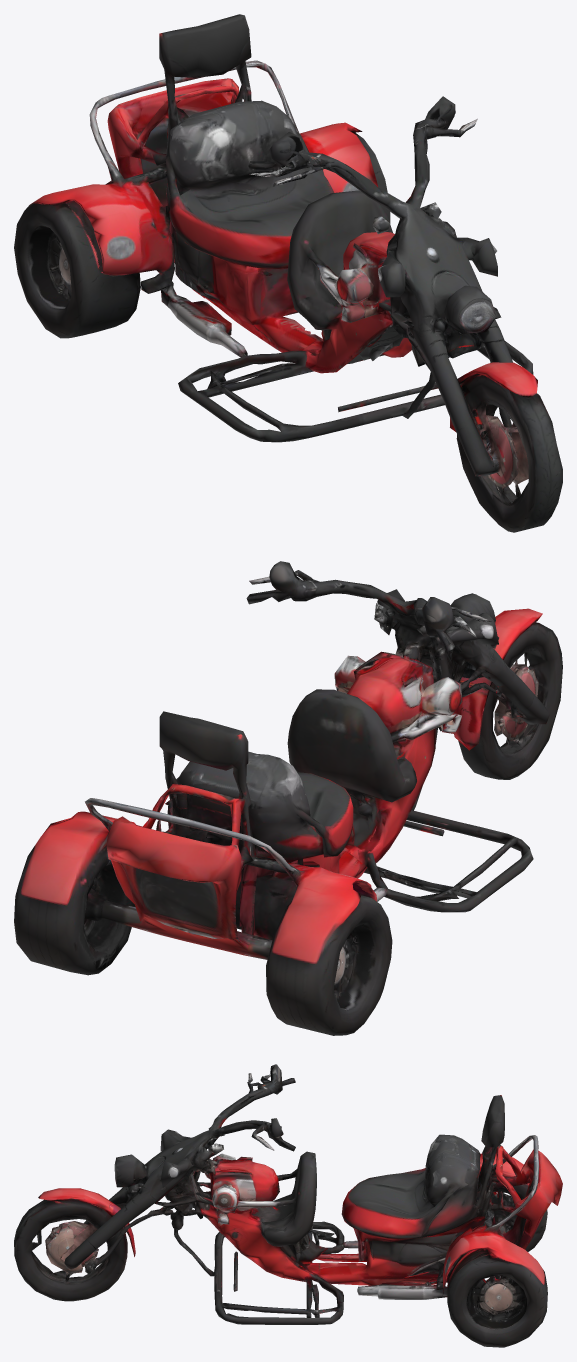
File: red-trike.glb
3 views of the same model, one above another, from view 1: azimuth 30°, elevation 25°; view 2: azimuth 150°, elevation 25°; view 3: azimuth 270°, elevation 25° (orthographic). The views are drawn at different scales.
Size of the model in its own units: 0.9203 by 0.8423 by 2.
Materials: 1 (1 with a texture image).
